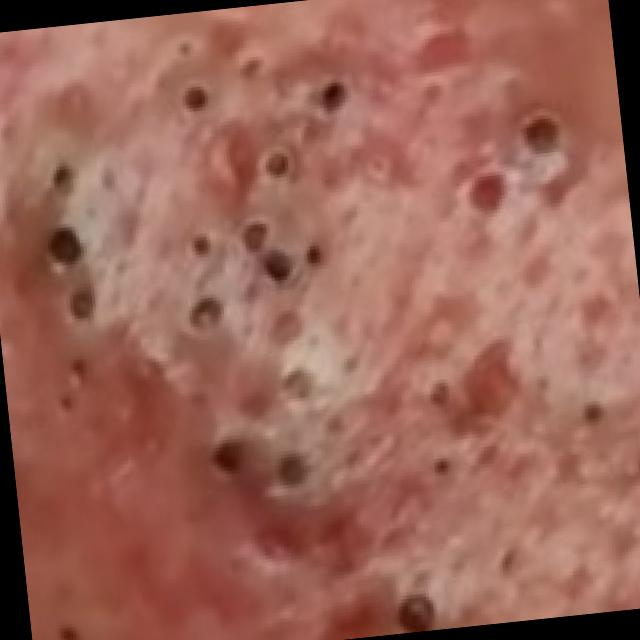blackhead: (400, 592, 439, 632), (470, 173, 506, 210), (524, 118, 560, 154), (277, 453, 310, 487), (50, 229, 82, 263), (191, 299, 224, 331), (270, 314, 302, 344), (213, 440, 242, 472), (68, 290, 95, 320), (320, 82, 348, 110), (264, 252, 292, 280), (244, 222, 268, 252), (287, 371, 313, 398), (54, 165, 76, 194), (184, 86, 209, 110), (429, 382, 451, 408), (266, 153, 288, 176), (583, 403, 604, 426), (240, 58, 261, 78), (500, 549, 518, 570), (432, 458, 452, 476), (192, 236, 210, 256), (306, 244, 323, 264), (60, 626, 79, 640), (60, 394, 74, 410), (72, 360, 86, 375), (178, 42, 191, 56)
